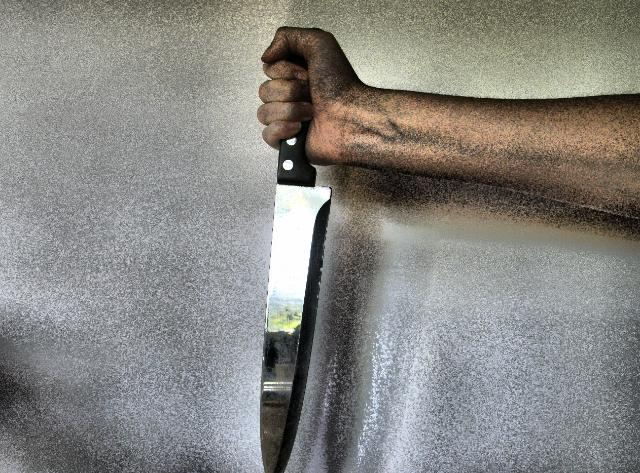knife: (250, 67, 336, 473)
